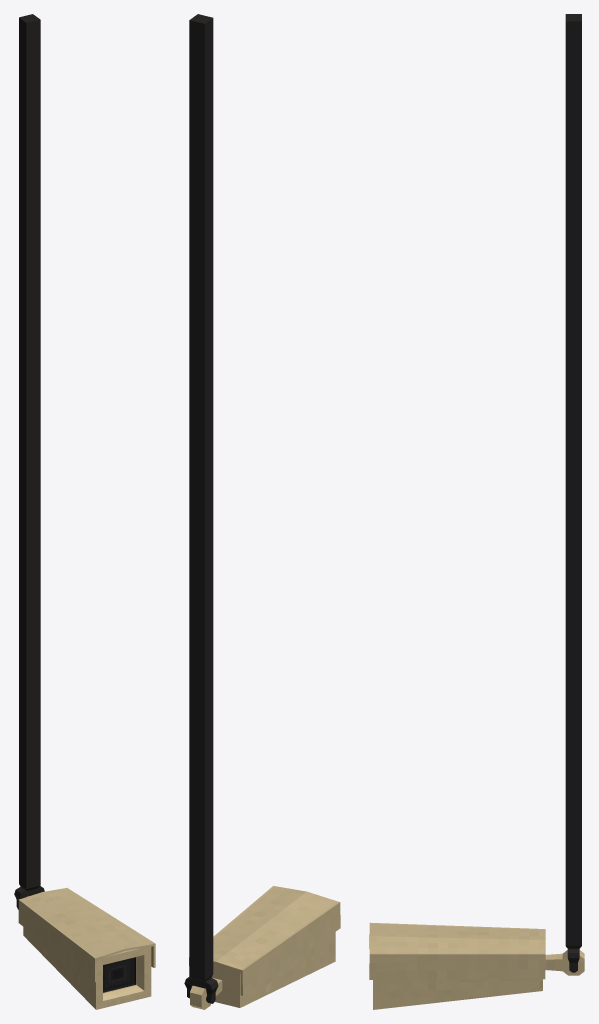
Rendered from camera.glb.
The picture shows the model from 3 angles, left to right: view 1: azimuth 30°, elevation 25°; view 2: azimuth 150°, elevation 25°; view 3: azimuth 270°, elevation 25°; orthographic projection. The views are drawn at different scales.
Parts seen in each view (by area): view 1: Handle, Camera; view 2: Handle, Camera; view 3: Handle, Camera.
Boxes of the visible parts, box(x1,y1,x2,y2) form: Handle: box(14, 14, 44, 909); Camera: box(18, 888, 155, 1009); Handle: box(184, 14, 218, 1003); Camera: box(189, 886, 340, 1009); Handle: box(565, 14, 581, 972); Camera: box(369, 922, 584, 1009).
Size of the model in its own units: 0.8804 by 12.69 by 2.54.
1 material, 1 textured.
